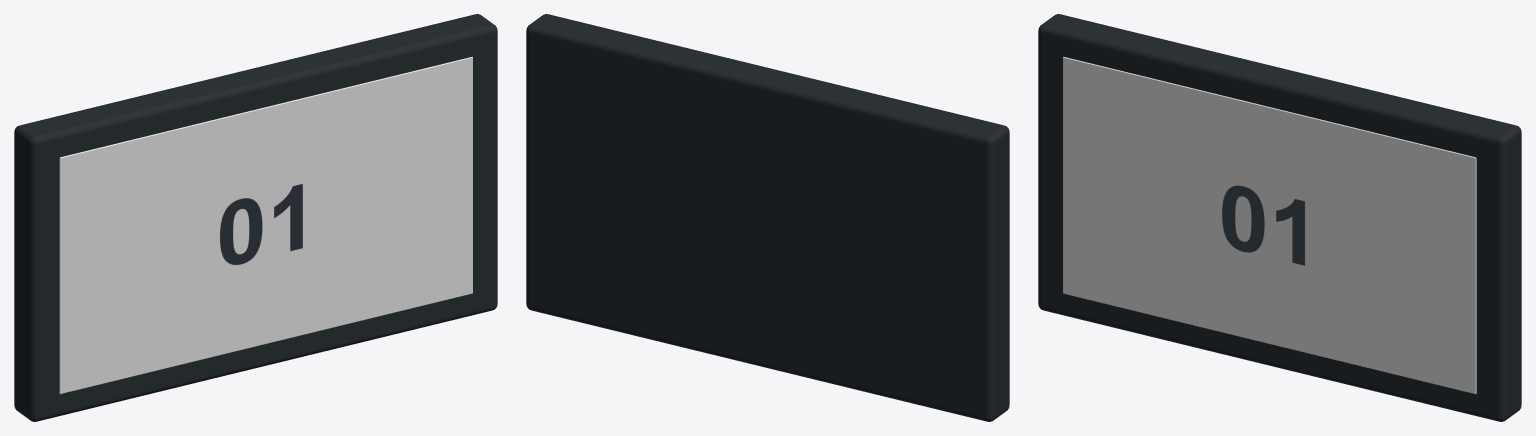
File: doorPlaque-3.glb
3 views of the same model, side by side, from view 1: azimuth 30°, elevation 25°; view 2: azimuth 150°, elevation 25°; view 3: azimuth 330°, elevation 25° (orthographic).
Parts seen in each view (by area): view 1: doorPlaque_Frosted label insert, doorPlaque_Graphite edge profile, DoorPlaque_Label; view 2: doorPlaque_Graphite edge profile; view 3: doorPlaque_Frosted label insert, doorPlaque_Graphite edge profile, DoorPlaque_Label.
Part boxes in pixels (left/top/right/bottom): doorPlaque_Frosted label insert: left=59, top=57, right=472, bottom=394; doorPlaque_Graphite edge profile: left=14, top=14, right=497, bottom=421; DoorPlaque_Label: left=220, top=184, right=302, bottom=264; doorPlaque_Graphite edge profile: left=526, top=14, right=1009, bottom=421; doorPlaque_Frosted label insert: left=1063, top=57, right=1476, bottom=394; doorPlaque_Graphite edge profile: left=1038, top=14, right=1521, bottom=421; DoorPlaque_Label: left=1222, top=185, right=1304, bottom=265.
Bounding box in the file's own units: 0.24 × 0.14 × 0.0187.
4 materials, 1 textured.
